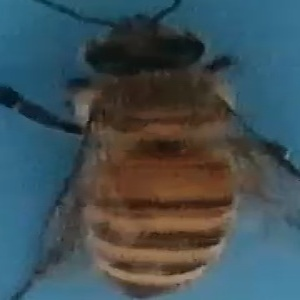bee: (30, 4, 290, 300)
